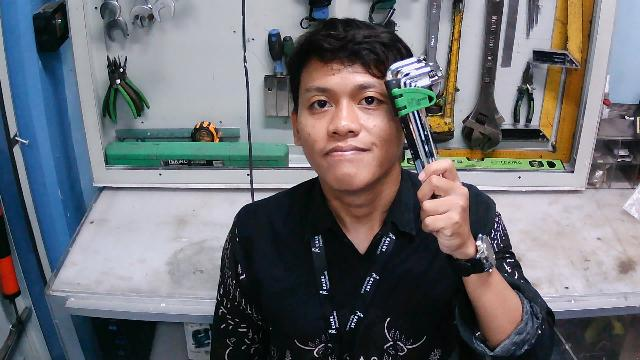kunci_l: (384, 47, 447, 211)
